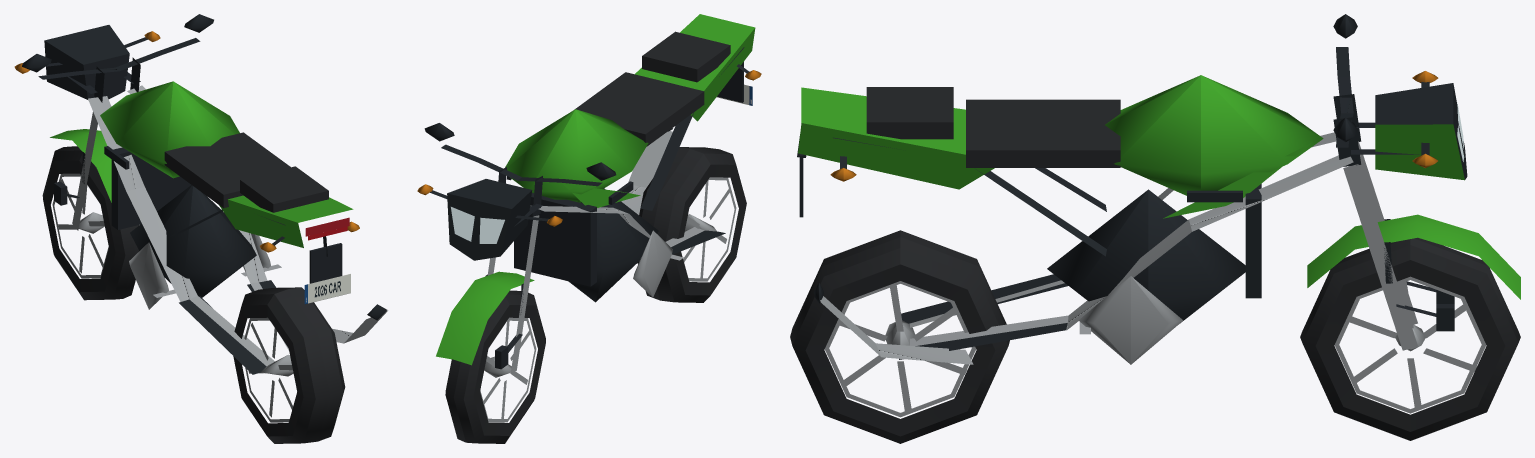
File: Entrega_11d_LOD2.glb
3 renders of one model, left to right at view 1: azimuth 30°, elevation 25°; view 2: azimuth 150°, elevation 25°; view 3: azimuth 270°, elevation 25°, orthographic. The views are drawn at different scales.
Visible parts, largest first — view 1: Body (×2), Wheel_R, Wheel_F, Plate, BrakeLights; view 2: Body (×2), Wheel_R, Wheel_F, Headlights; view 3: Body (×2), Wheel_R, Wheel_F.
Part boxes in pixels (x1,y1,x2,y2): Body (×2): (22,14,387,374); Wheel_R: (233,287,345,443); Wheel_F: (42,146,139,300); Plate: (304,274,350,304); BrakeLights: (305,217,349,236); Body (×2): (424,14,755,371); Wheel_R: (637,147,746,302); Wheel_F: (445,290,545,443); Headlights: (451,207,504,243); Body (×2): (797,14,1520,364); Wheel_R: (790,230,1009,443); Wheel_F: (1300,237,1520,440).
Size of the model in its own units: 0.83 by 1.17 by 2.09.
Materials: 8 (1 with a texture image).
